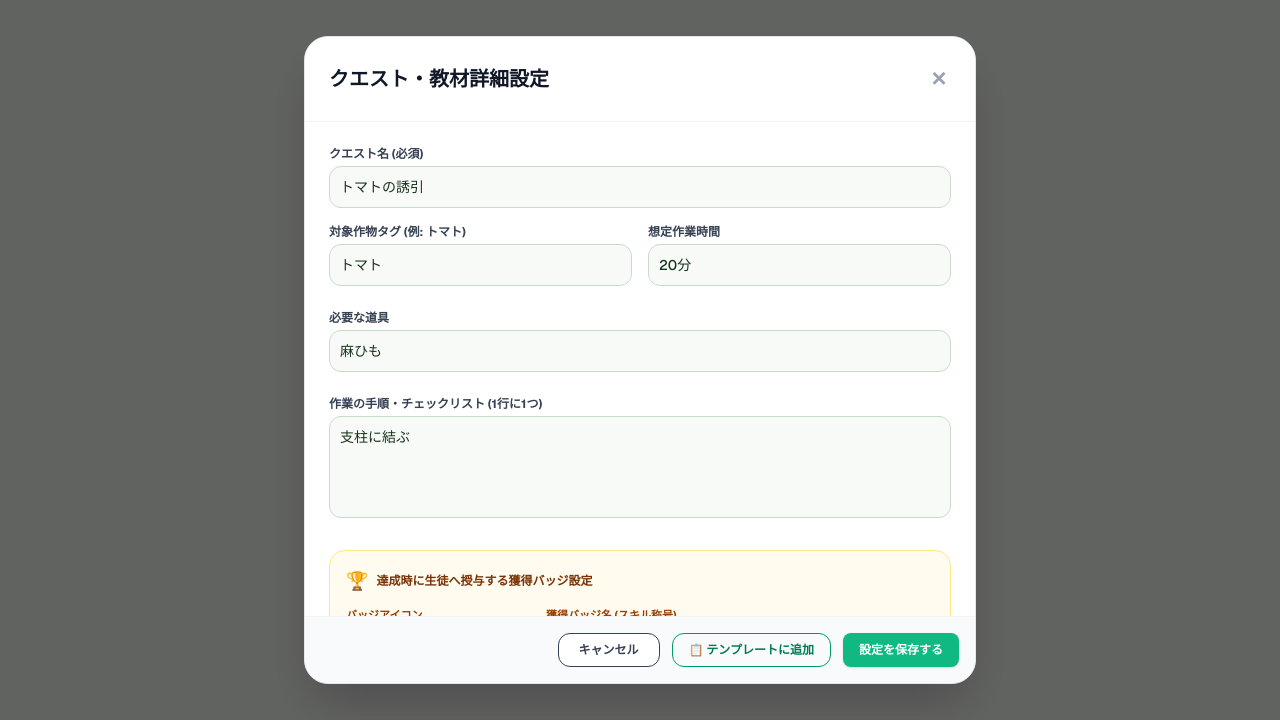
Test case: R-2: 書き込みエラーのトースト通知（正常系・異常系） › 2. タスク編集からのテンプレート追加 (TaskEditModal.handleSaveAsTemplate) › DB 書き込み成功時に成功トーストが表示される
Step 1. Click the button "📋 テンプレートに追加" → [751, 650], box left=672, top=633, right=831, bottom=667
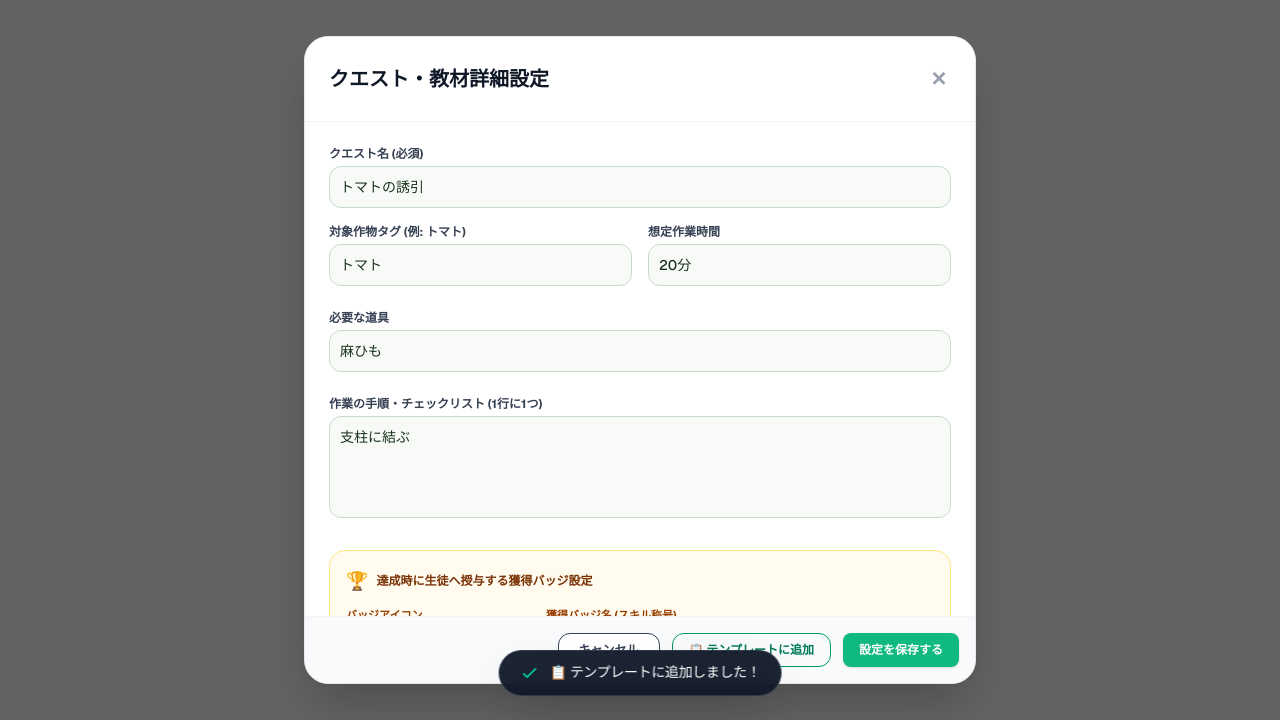
Result: the text "📋 テンプレートに追加しました！" is shown at left=550, top=663, right=760, bottom=683
